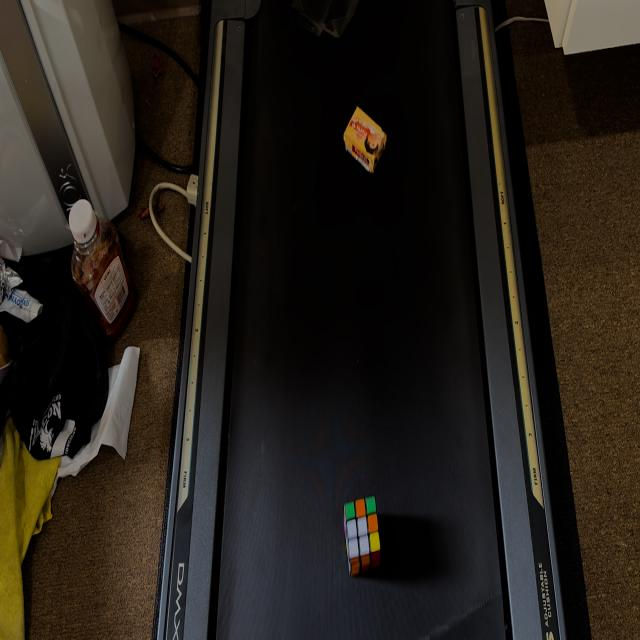Trash: (328, 482, 406, 614), (325, 98, 404, 172)
